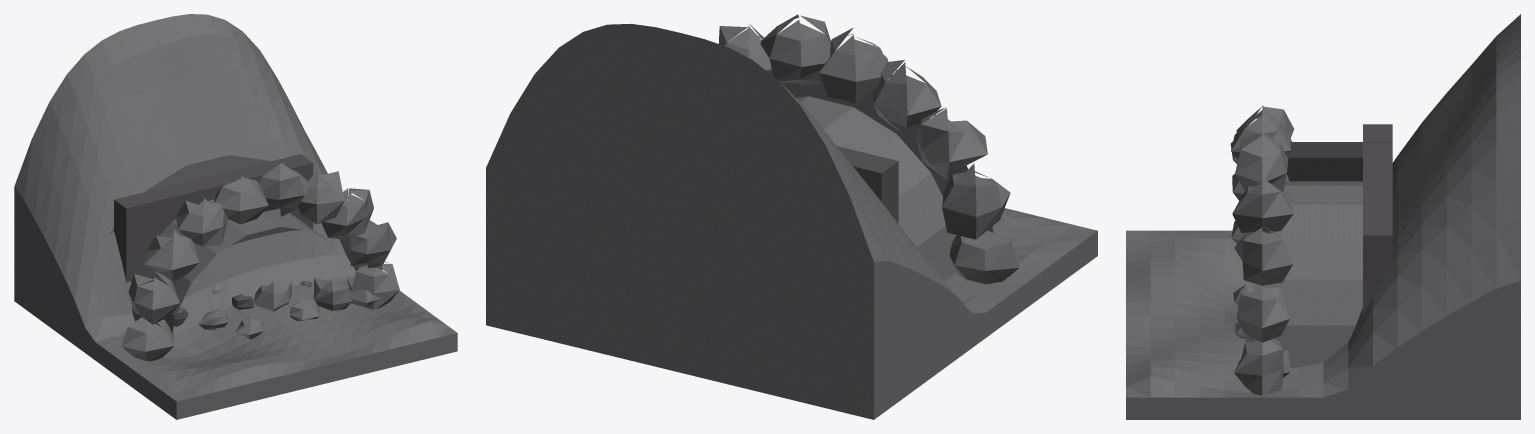
Rendered from volcano-and-lava-fields-volcano-and-lava-fields-lava-t-c11e3bb3__37455.glb.
3 renders of one model, left to right at view 1: azimuth 30°, elevation 25°; view 2: azimuth 150°, elevation 25°; view 3: azimuth 270°, elevation 25°, orthographic. The views are drawn at different scales.
Parts seen in each view (by area): view 1: volcano-and-lava-fields-lava-tube-mouth; view 2: volcano-and-lava-fields-lava-tube-mouth; view 3: volcano-and-lava-fields-lava-tube-mouth.
Part boxes in pixels (left/top/right/bottom): volcano-and-lava-fields-lava-tube-mouth: left=14, top=14, right=457, bottom=419; volcano-and-lava-fields-lava-tube-mouth: left=486, top=14, right=1097, bottom=419; volcano-and-lava-fields-lava-tube-mouth: left=1126, top=14, right=1520, bottom=419.
Size of the model in its own units: 4 by 3.35 by 4.
2 materials, 1 textured.
